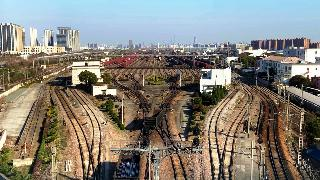train: (143, 108, 165, 128), (172, 71, 181, 81)
